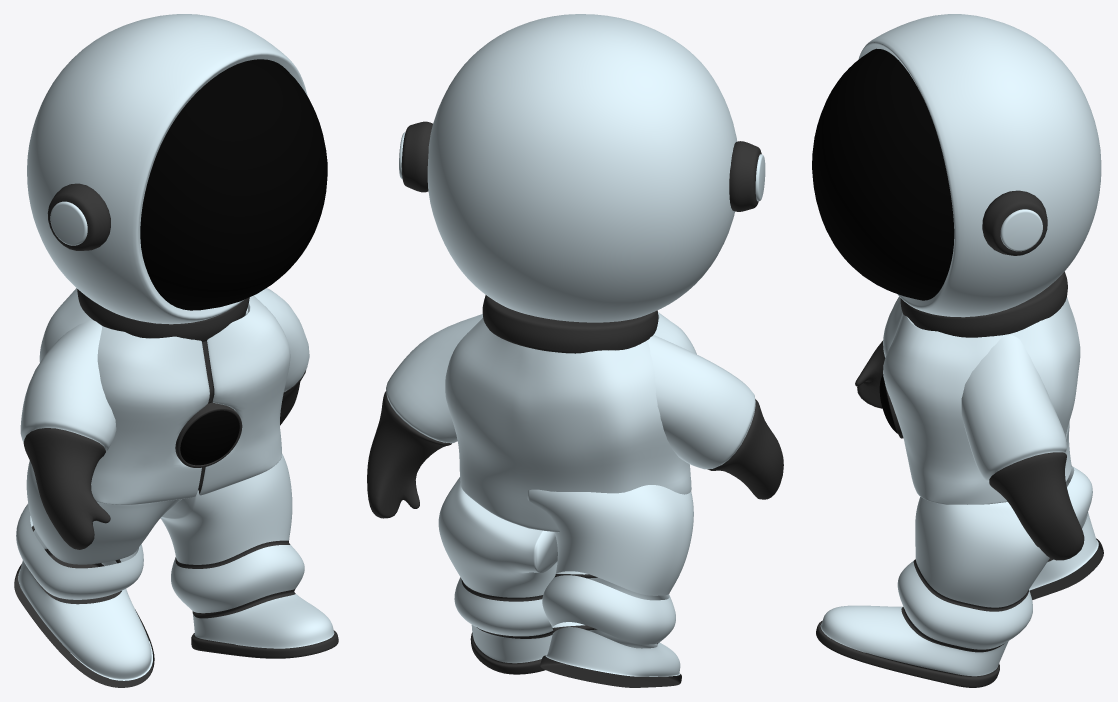
Rendered from astronaut2.glb.
The picture shows the model from 3 angles, left to right: view 1: azimuth 30°, elevation 25°; view 2: azimuth 150°, elevation 25°; view 3: azimuth 270°, elevation 25°; orthographic projection. The views are drawn at different scales.
Visible parts, largest first — view 1: Head.001, Head, Body, Leg_L, Leg_R, Arm_R, Arm_R.001, Body.001, Sphere, Leg_R.001, Head.003, Arm_L (+4 smaller); view 2: Head, Body, Leg_R, Leg_L, Arm_R, Arm_L, Body.001, Arm_L.001, Arm_R.001, Head.003, Head.002, Leg_R.001 (+1 smaller); view 3: Head, Head.001, Leg_L, Body, Arm_L, Arm_L.001, Body.001, Leg_R, Leg_L.001, Head.002, Head.004, Arm_R.001 (+2 smaller).
Boxes of the visible parts, x1,y1,x2,y2 form: Head.001: [140, 59, 327, 310]; Head: [27, 14, 307, 324]; Body: [39, 288, 290, 504]; Leg_L: [160, 453, 334, 648]; Leg_R: [16, 460, 181, 680]; Arm_R: [20, 320, 116, 451]; Arm_R.001: [23, 428, 110, 549]; Body.001: [77, 289, 249, 341]; Sphere: [180, 410, 239, 465]; Leg_R.001: [14, 549, 154, 687]; Head.003: [47, 183, 110, 250]; Arm_L: [246, 288, 309, 391]; Head: [427, 14, 737, 322]; Body: [445, 312, 696, 532]; Leg_R: [527, 485, 693, 676]; Leg_L: [438, 477, 557, 663]; Arm_R: [648, 335, 755, 469]; Arm_L: [386, 314, 482, 443]; Body.001: [482, 295, 658, 353]; Arm_L.001: [367, 391, 451, 518]; Arm_R.001: [707, 399, 783, 499]; Head.003: [729, 141, 761, 211]; Head.002: [401, 121, 432, 192]; Leg_R.001: [540, 655, 681, 687]; Head: [858, 14, 1101, 317]; Head.001: [812, 48, 954, 300]; Leg_L: [820, 497, 1049, 676]; Body: [883, 296, 1080, 504]; Arm_L: [961, 335, 1066, 481]; Arm_L.001: [989, 452, 1084, 560]; Body.001: [900, 271, 1067, 337]; Leg_R: [1029, 421, 1098, 590]; Leg_L.001: [816, 620, 999, 687]; Head.002: [982, 190, 1047, 255]; Head.004: [1000, 209, 1042, 251]; Arm_R.001: [855, 341, 885, 408].
Bounding box in the file's own units: 1.56 × 2.94 × 1.26.
